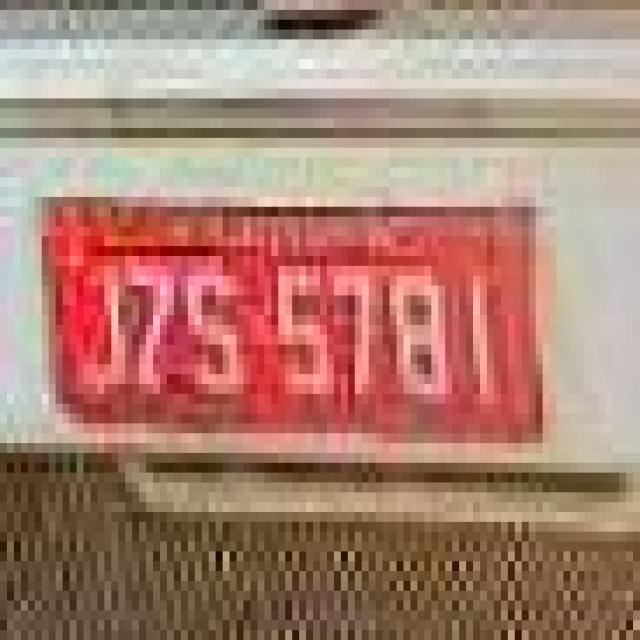1: (456, 268, 492, 414)
5: (280, 256, 335, 427)
7: (329, 256, 378, 420), (122, 256, 176, 402)
8: (392, 256, 455, 406)
J: (56, 257, 126, 405)
S: (181, 265, 244, 409)
